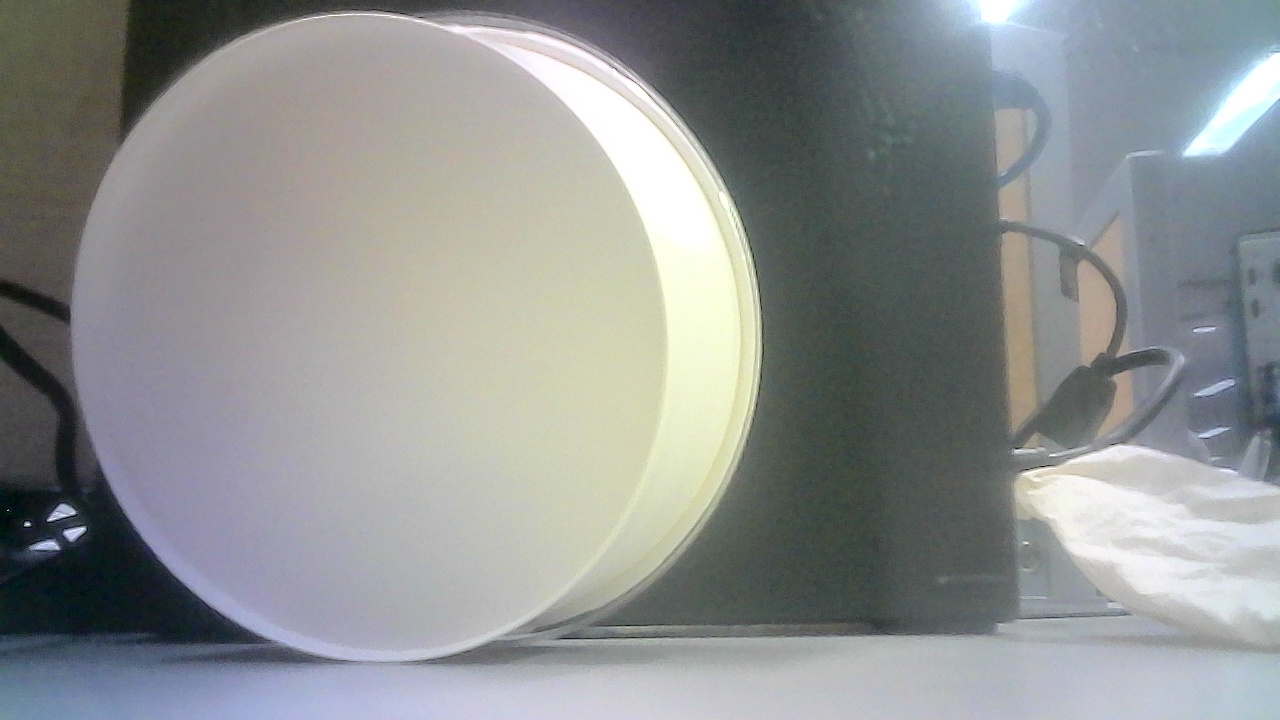Undefined_Waste: (57, 0, 776, 649)
